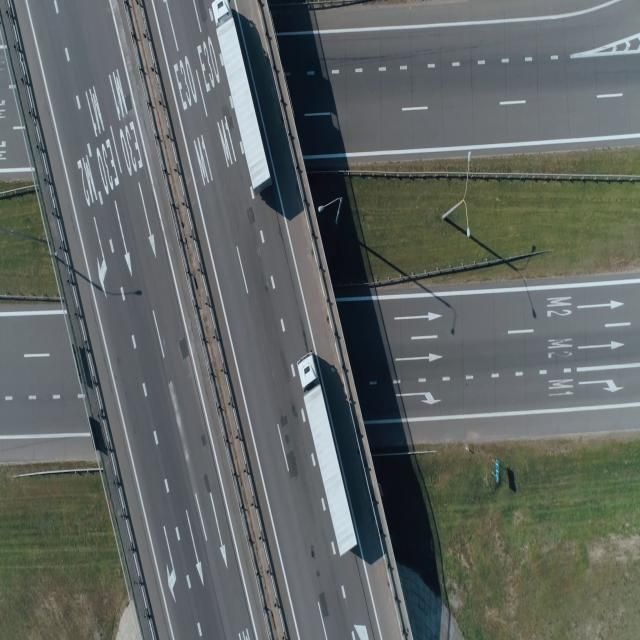vehicle: (296, 349, 358, 556), (210, 0, 272, 194)
